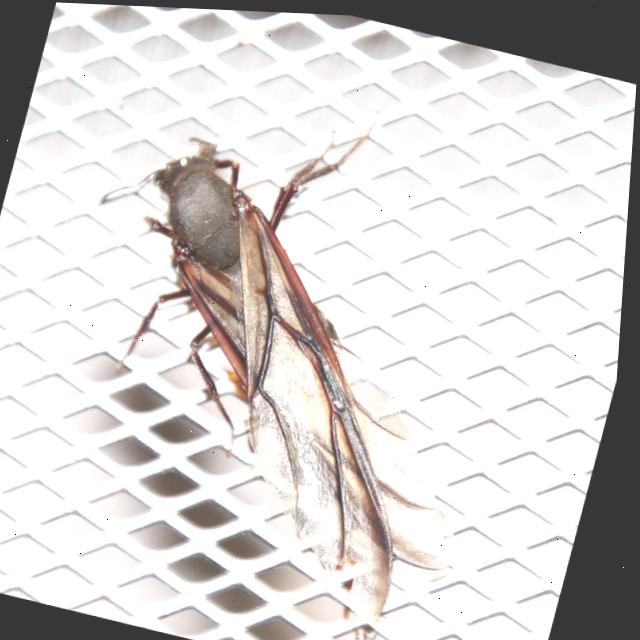Alive-Female-Alate: (8, 43, 571, 640)
